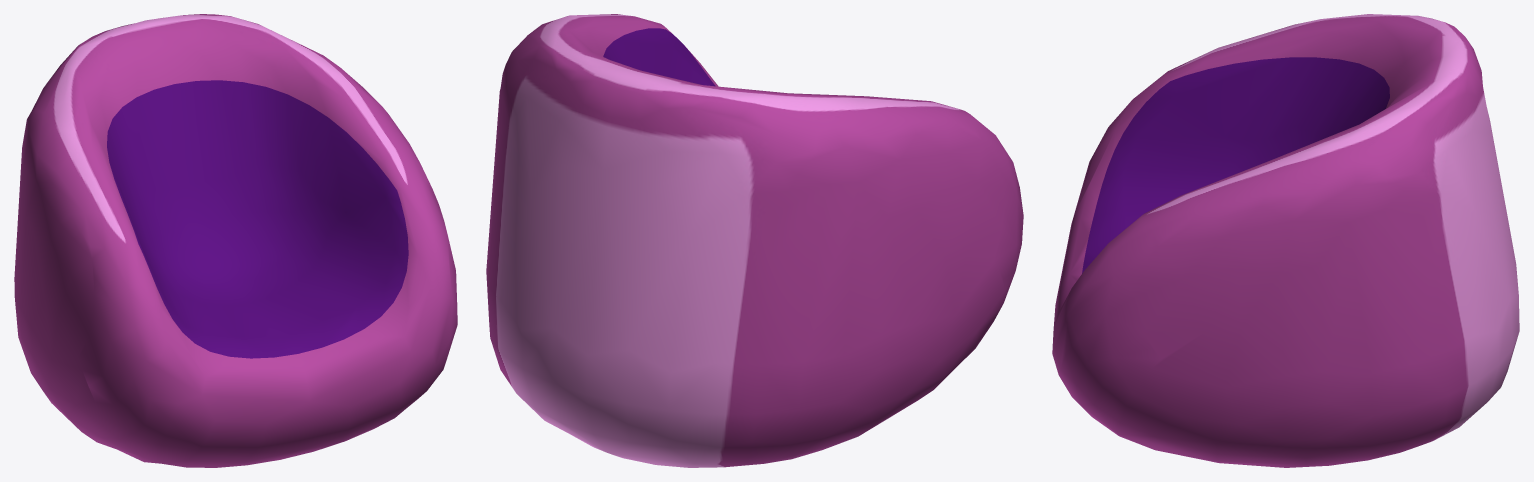
The model's file is nojatuoli_disco.fbx.
3 renders of one model, left to right at view 1: azimuth 30°, elevation 25°; view 2: azimuth 150°, elevation 25°; view 3: azimuth 270°, elevation 25°, orthographic. The views are drawn at different scales.
Parts seen in each view (by area): view 1: Nojatuoli:polymsh24; view 2: Nojatuoli:polymsh24; view 3: Nojatuoli:polymsh24.
Part boxes in pixels (<box>): Nojatuoli:polymsh24: <box>14,14,457,467</box>; Nojatuoli:polymsh24: <box>486,14,1023,467</box>; Nojatuoli:polymsh24: <box>1052,14,1519,467</box>.
Size of the model in its own units: 5.32 by 4.95 by 5.58.
2 materials, 2 textured.
